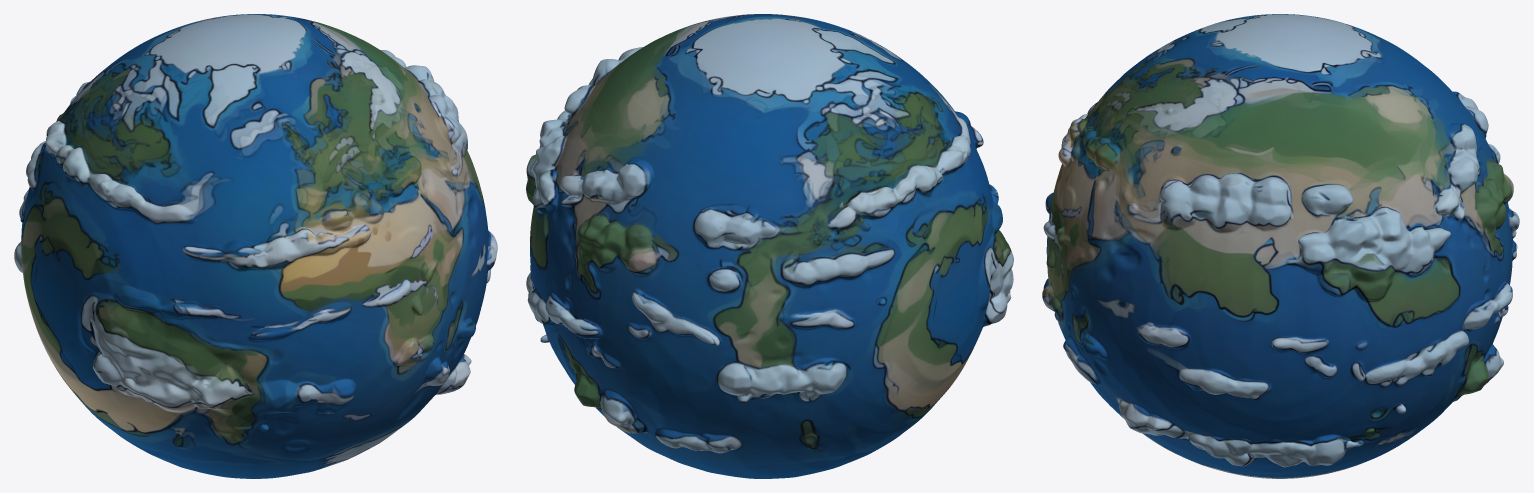
File: earth-globe.glb
3 renders of one model, left to right at view 1: azimuth 30°, elevation 25°; view 2: azimuth 150°, elevation 25°; view 3: azimuth 270°, elevation 25°, orthographic.
Parts seen in each view (by area): view 1: tripo_node_eb14b494-e127-422f-a6e0-b009aad667af; view 2: tripo_node_eb14b494-e127-422f-a6e0-b009aad667af; view 3: tripo_node_eb14b494-e127-422f-a6e0-b009aad667af.
Part boxes in pixels (box(x1,y1,x2,y2)): tripo_node_eb14b494-e127-422f-a6e0-b009aad667af: box(14, 14, 497, 478); tripo_node_eb14b494-e127-422f-a6e0-b009aad667af: box(526, 14, 1013, 478); tripo_node_eb14b494-e127-422f-a6e0-b009aad667af: box(1042, 14, 1519, 478).
Bounding box in the file's own units: 0.9847 × 0.9707 × 1.
Materials: 1 (1 with a texture image).
